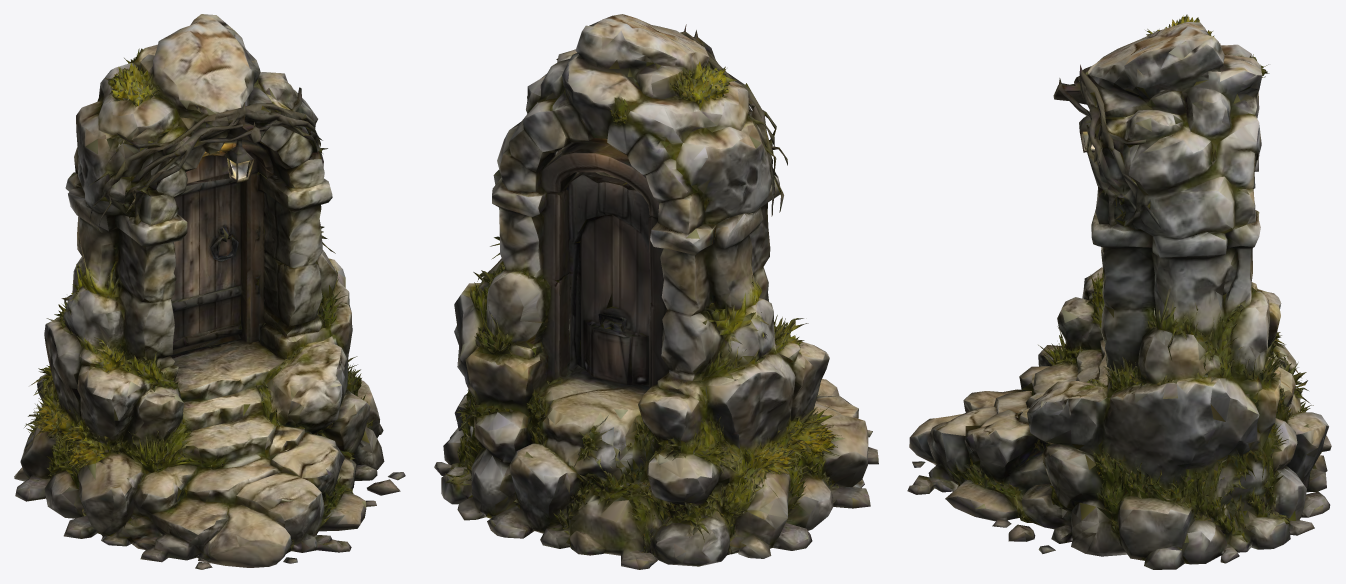
The model's file is Stone_Portal.glb.
The picture shows the model from 3 angles, left to right: view 1: azimuth 30°, elevation 25°; view 2: azimuth 150°, elevation 25°; view 3: azimuth 270°, elevation 25°; orthographic projection. The views are drawn at different scales.
Visible parts, largest first — view 1: Stone_Portal; view 2: Stone_Portal; view 3: Stone_Portal.
Boxes of the visible parts, box(x1,y1,x2,y2) form: Stone_Portal: box(14, 14, 405, 569); Stone_Portal: box(434, 14, 878, 569); Stone_Portal: box(907, 14, 1331, 569).
Bounding box in the file's own units: 1.68 × 2 × 1.69.
1 material, 1 textured.
